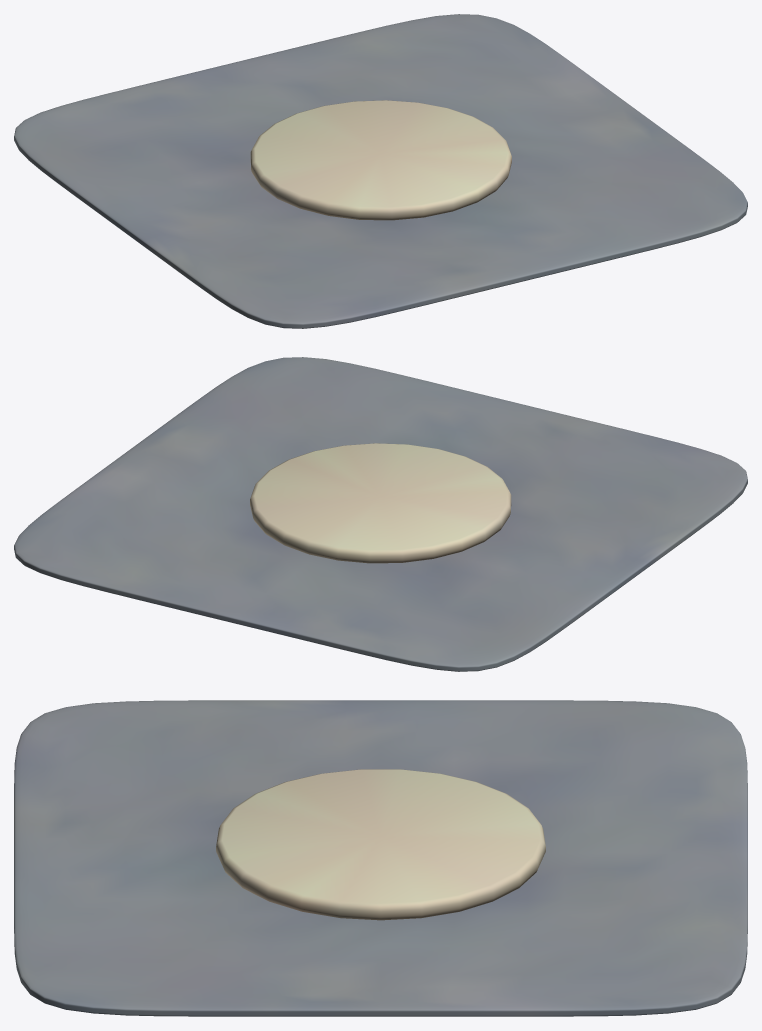
The model's file is wire-gauze.glb.
The picture shows the model from 3 angles, top to bottom: view 1: azimuth 30°, elevation 25°; view 2: azimuth 150°, elevation 25°; view 3: azimuth 270°, elevation 25°; orthographic projection. The views are drawn at different scales.
Visible parts, largest first — view 1: wire-gauze-mesh, wire-gauze-ceramic; view 2: wire-gauze-mesh, wire-gauze-ceramic; view 3: wire-gauze-mesh, wire-gauze-ceramic.
Part boxes in pixels (bbox=[...]): wire-gauze-mesh: bbox=[14, 14, 747, 328]; wire-gauze-ceramic: bbox=[250, 100, 511, 220]; wire-gauze-mesh: bbox=[14, 357, 747, 671]; wire-gauze-ceramic: bbox=[250, 443, 511, 563]; wire-gauze-mesh: bbox=[14, 700, 747, 1016]; wire-gauze-ceramic: bbox=[216, 769, 545, 920].
Size of what is drawn, in the model's own units: 12 by 0.5 by 12.
